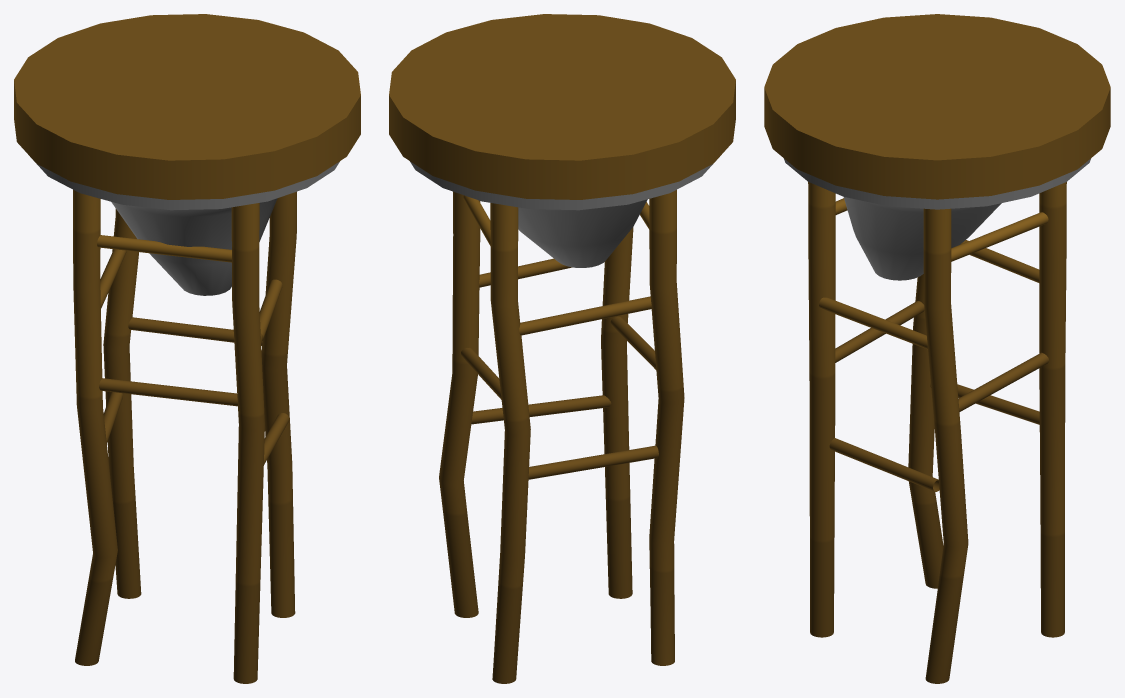
The model's file is geo_stool.fbx.
The picture shows the model from 3 angles, left to right: view 1: azimuth 30°, elevation 25°; view 2: azimuth 150°, elevation 25°; view 3: azimuth 270°, elevation 25°; orthographic projection.
Visible parts, largest first — view 1: geo_stool; view 2: geo_stool; view 3: geo_stool.
Boxes of the visible parts, x1,y1,x2,y2 form: geo_stool: [14, 14, 360, 683]; geo_stool: [389, 14, 735, 683]; geo_stool: [764, 14, 1110, 683].
Bounding box in the file's own units: 2 × 3.47 × 2.
Materials: 1 (1 with a texture image).
